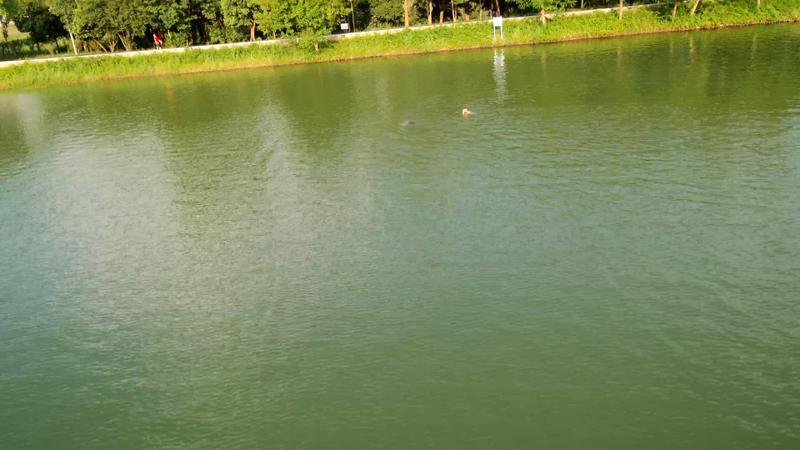passerby: (151, 30, 163, 51)
swimmers: (459, 103, 477, 119)
